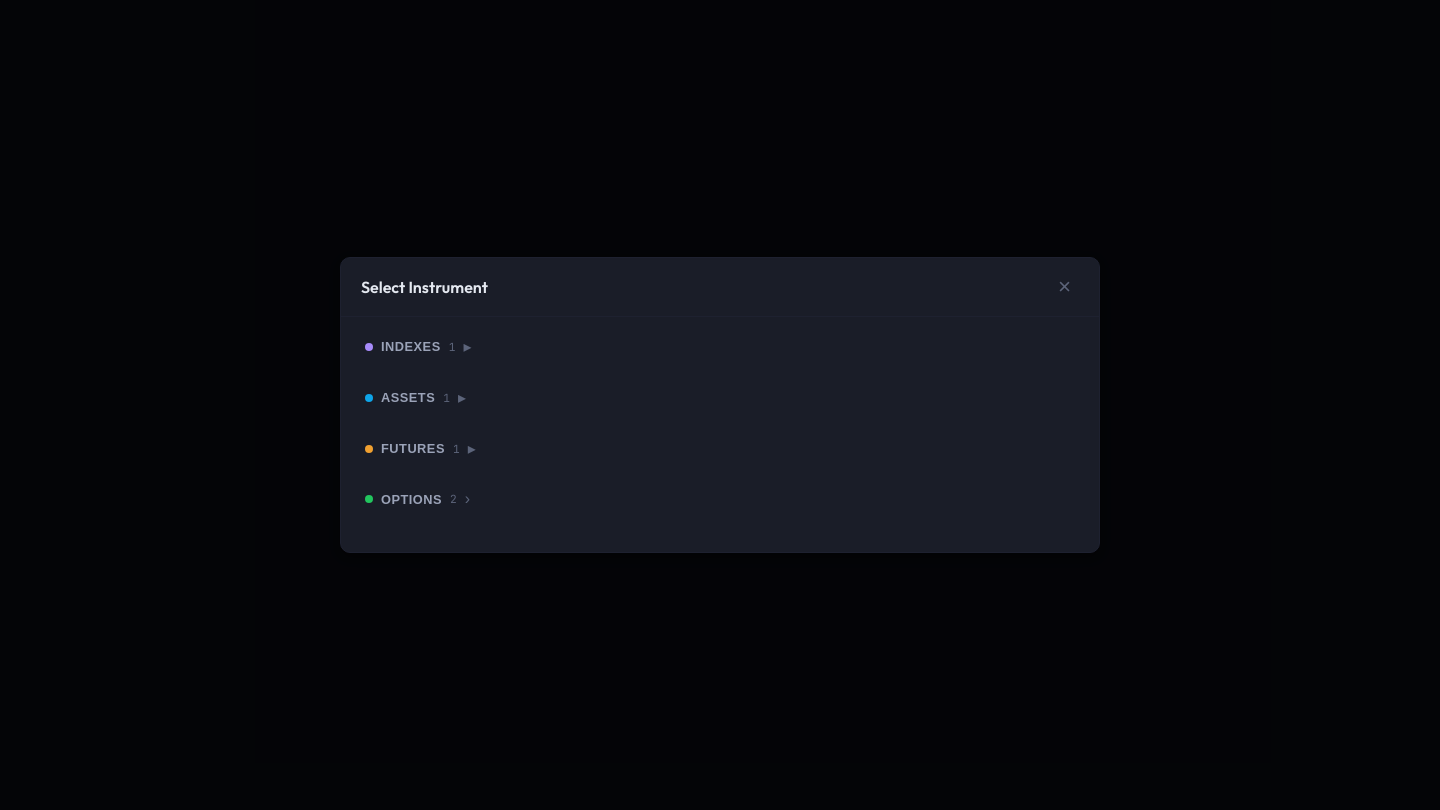
it: <InstrumentPickerModal> › optionStreamAllowedStreams=[mid] hides the Series selector in the drill-down
Expected: the text "Indexes" is shown, [381, 339, 441, 354]
Expected: the text "Options" is shown, [381, 492, 442, 507]
Click the button with test id "picker-options-toggle" at coordinates (412, 499), box [361, 482, 1079, 516]
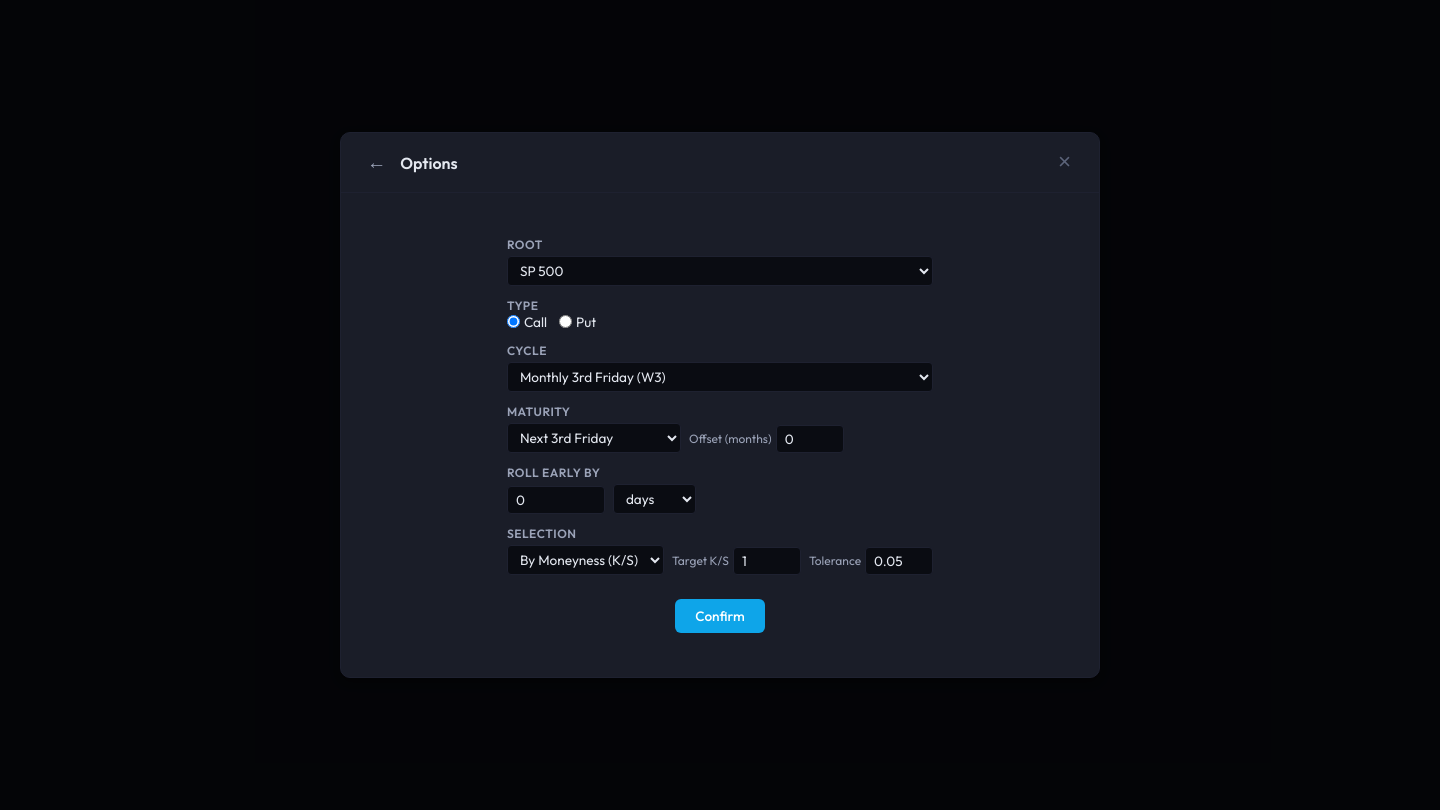
Expected: the element with test id "option-stream-form" is shown, [507, 229, 933, 583]
Expected: the dropdown labelled "Root" is shown, [507, 256, 933, 286]
